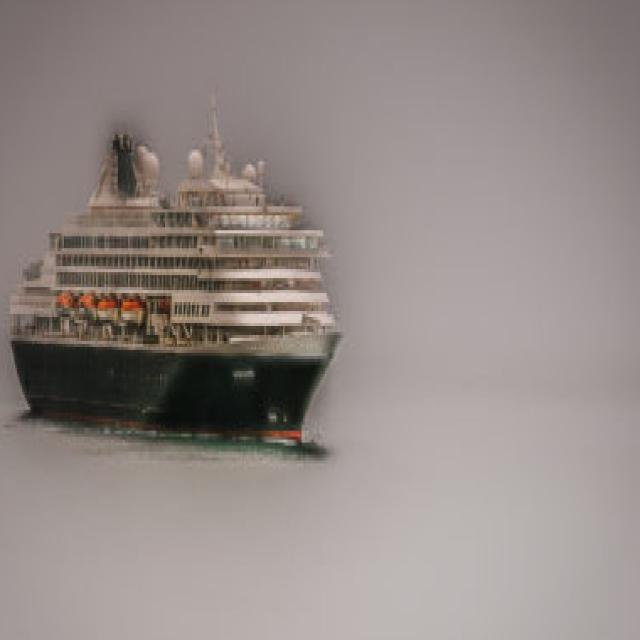passenger ship: (3, 104, 354, 442)
